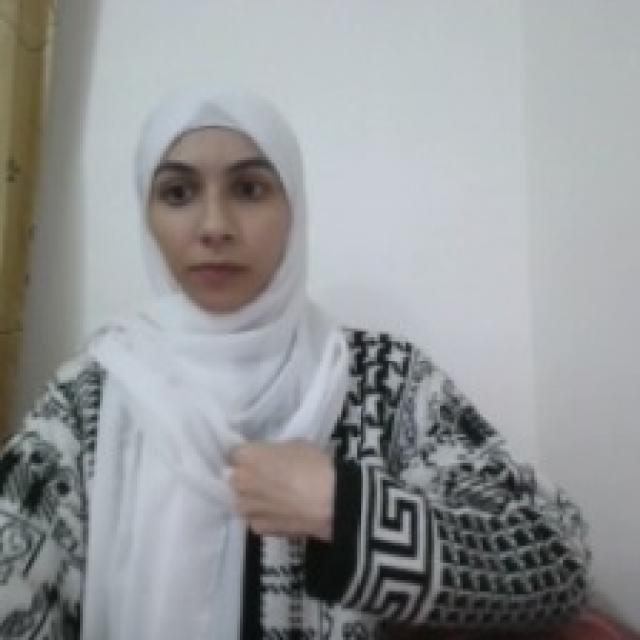me: (221, 434, 344, 544)
